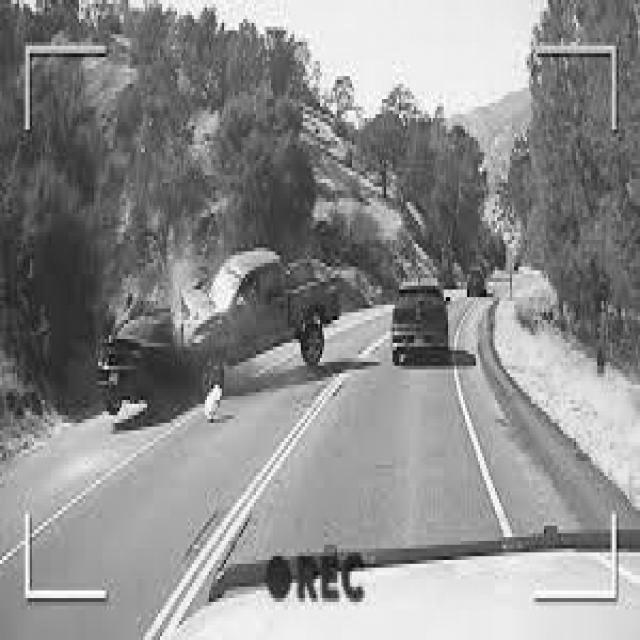accident: (94, 240, 344, 435)
vehicle: (391, 276, 451, 368), (465, 265, 485, 299)
